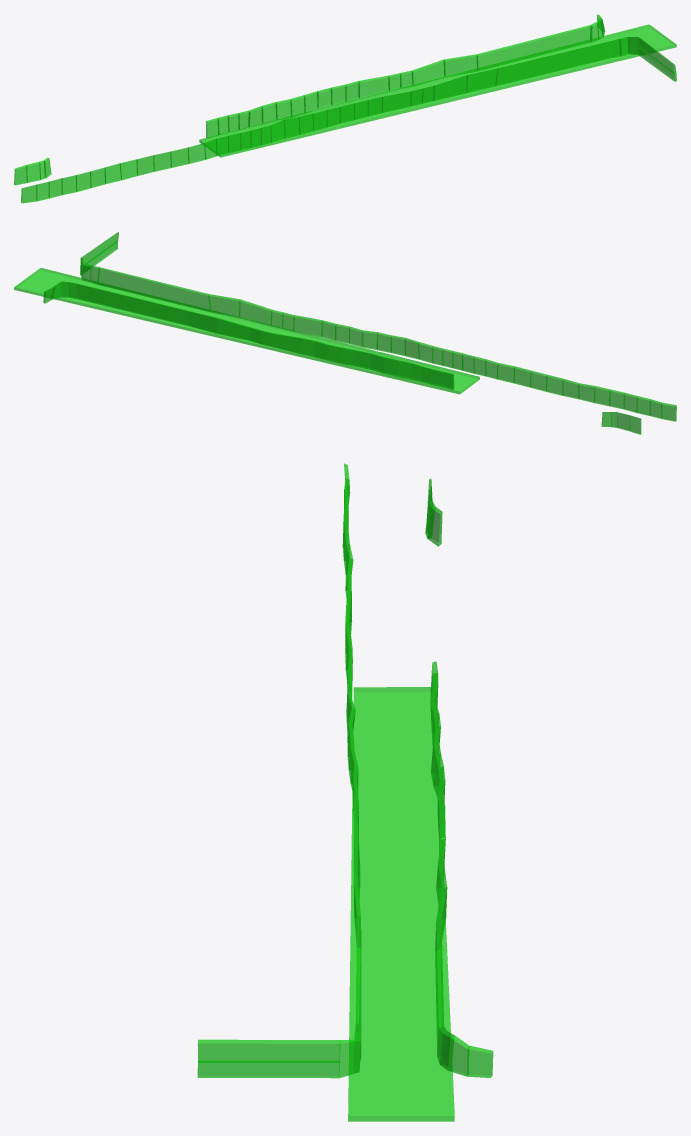
The model's file is parche_3.fbx.
The picture shows the model from 3 angles, top to bottom: view 1: azimuth 30°, elevation 25°; view 2: azimuth 150°, elevation 25°; view 3: azimuth 270°, elevation 25°; orthographic projection. The views are drawn at different scales.
Visible parts, largest first — view 1: Colliders_2543, Colliders_2490, Colliders_2500, Colliders_2503, Colliders_3027, Colliders_3037, Colliders_2986, Colliders_2513, Colliders_2996, Colliders_773, Colliders_774, Colliders_2686 (+7 smaller); view 2: Colliders_2543, Colliders_2500, Colliders_2490, Colliders_3037, Colliders_2513, Colliders_3027, Colliders_2996, Colliders_2503, Colliders_2986, Colliders_773; view 3: Colliders_2543, Colliders_773, Colliders_774, Colliders_2490.
Boxes of the visible parts, bbox=[...] form: Colliders_2543: bbox=[199, 24, 676, 157]; Colliders_2490: bbox=[477, 25, 592, 70]; Colliders_2500: bbox=[495, 41, 611, 86]; Colliders_2503: bbox=[444, 54, 478, 77]; Colliders_3027: bbox=[412, 59, 445, 86]; Colliders_3037: bbox=[433, 75, 467, 100]; Colliders_2986: bbox=[358, 75, 389, 98]; Colliders_2513: bbox=[467, 68, 498, 92]; Colliders_2996: bbox=[382, 91, 411, 112]; Colliders_773: bbox=[637, 37, 676, 74]; Colliders_774: bbox=[638, 47, 676, 81]; Colliders_2686: bbox=[153, 151, 171, 171]; Colliders_2543: bbox=[14, 268, 479, 394]; Colliders_2500: bbox=[97, 267, 210, 311]; Colliders_2490: bbox=[76, 283, 189, 325]; Colliders_3037: bbox=[239, 299, 271, 325]; Colliders_2513: bbox=[208, 294, 239, 317]; Colliders_3027: bbox=[217, 318, 251, 340]; Colliders_2996: bbox=[293, 315, 322, 336]; Colliders_2503: bbox=[188, 311, 218, 333]; Colliders_2986: bbox=[271, 333, 302, 354]; Colliders_773: bbox=[81, 232, 118, 265]; Colliders_2543: bbox=[348, 687, 454, 1121]; Colliders_773: bbox=[197, 1039, 340, 1062]; Colliders_774: bbox=[197, 1061, 339, 1078]; Colliders_2490: bbox=[435, 919, 444, 1056].
Bounding box in the file's own units: 11677 × 391 × 2354.
